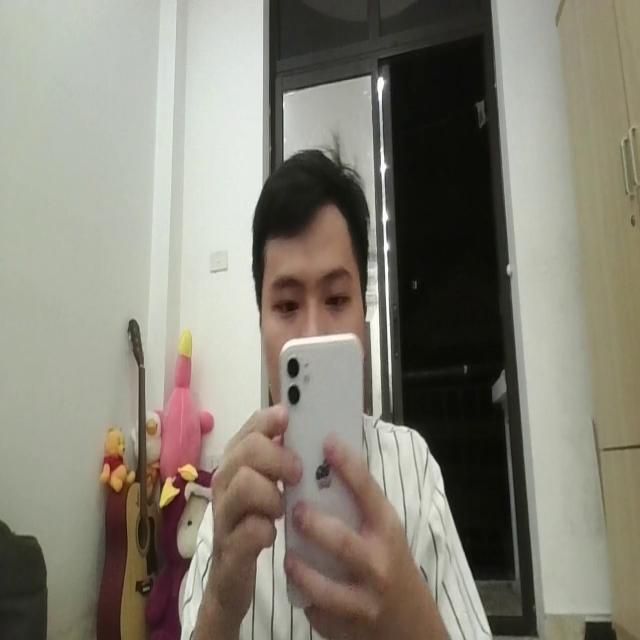phone: (278, 325, 368, 598)
student: (182, 143, 491, 640)
